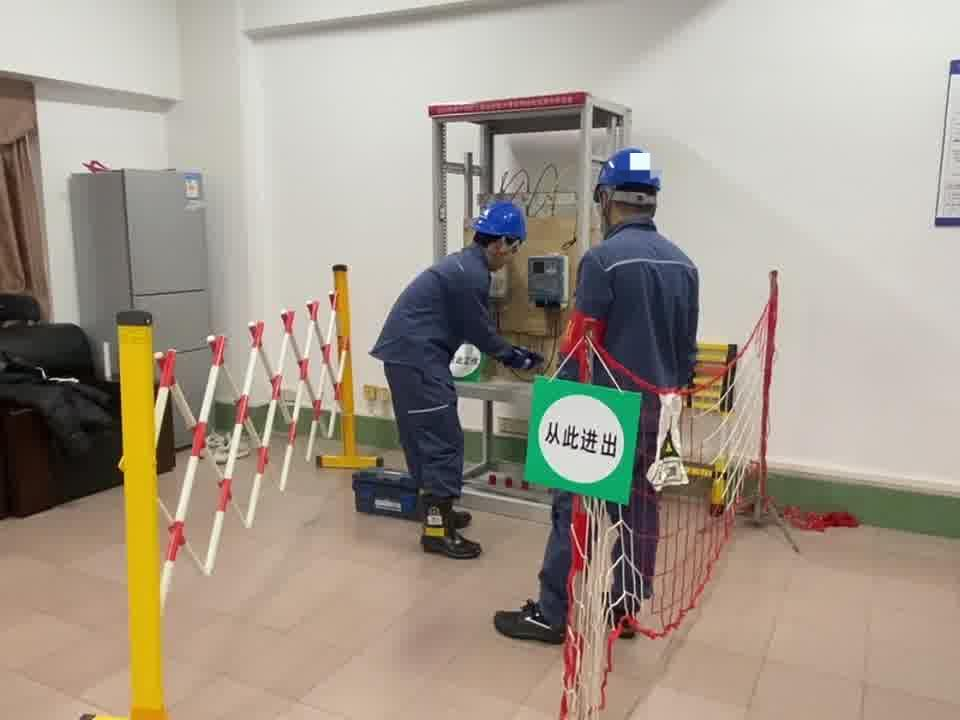halt: (595, 147, 667, 224), (475, 203, 531, 274)
inear: (598, 188, 620, 233)
